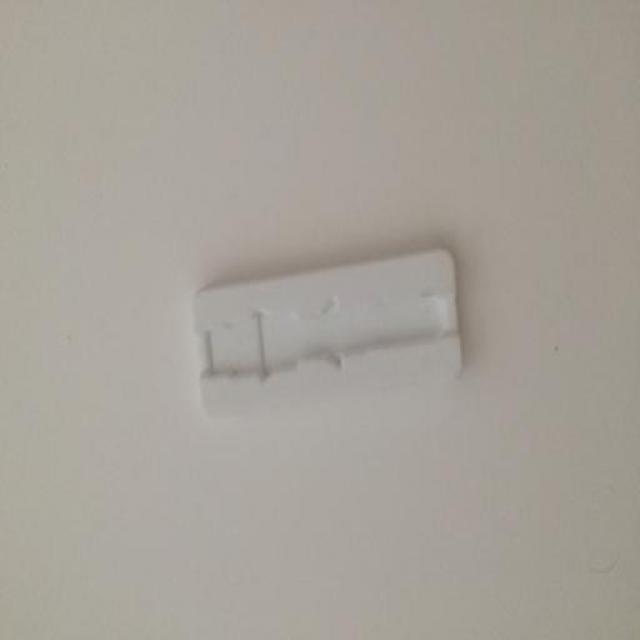Plastic: (192, 244, 473, 431)
